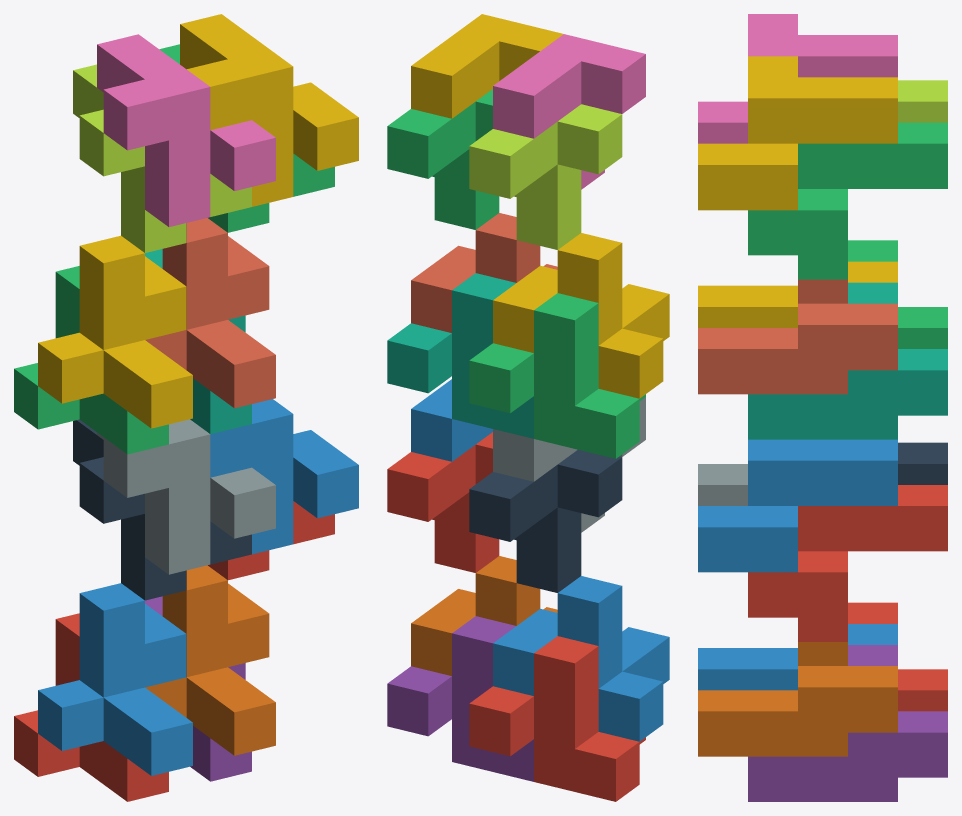
The model's file is tiling.obj.
3 renders of one model, left to right at view 1: azimuth 30°, elevation 25°; view 2: azimuth 150°, elevation 25°; view 3: azimuth 270°, elevation 25°, orthographic. The views are drawn at different scales.
Parts seen in each view (by area): view 1: copy_1_domain_4, copy_1_domain_2, copy_2_domain_4, copy_2_domain_8, copy_2_domain_2, copy_1_domain_6, copy_1_domain_8, copy_2_domain_6, copy_2_domain_3, copy_2_domain_1, copy_1_domain_1, copy_1_domain_3 (+4 smaller); view 2: copy_1_domain_1, copy_1_domain_3, copy_1_domain_4, copy_1_domain_2, copy_2_domain_3, copy_2_domain_1, copy_2_domain_4, copy_1_domain_7, copy_1_domain_5, copy_2_domain_7, copy_2_domain_5, copy_2_domain_8 (+4 smaller); view 3: copy_2_domain_8, copy_2_domain_6, copy_1_domain_8, copy_1_domain_6, copy_2_domain_7, copy_2_domain_5, copy_1_domain_7, copy_1_domain_5, copy_2_domain_4, copy_1_domain_4, copy_1_domain_2, copy_1_domain_1 (+4 smaller).
Part boxes in pixels (x1,y1,x2,y2): copy_1_domain_4: (38,235,192,428); copy_1_domain_2: (38,583,192,775); copy_2_domain_4: (97,34,275,226); copy_2_domain_8: (180,14,358,206); copy_2_domain_2: (97,419,275,574); copy_1_domain_6: (145,565,275,755); copy_1_domain_8: (145,218,275,408); copy_2_domain_6: (210,399,358,554); copy_2_domain_3: (73,64,251,252); copy_2_domain_1: (73,419,251,600); copy_1_domain_1: (14,613,168,801); copy_1_domain_3: (14,266,168,454); copy_1_domain_1: (469,636,645,801); copy_1_domain_3: (469,293,645,458); copy_1_domain_4: (493,233,669,398); copy_1_domain_2: (493,576,669,741); copy_2_domain_3: (469,104,622,249); copy_2_domain_1: (469,449,622,592); copy_2_domain_4: (493,34,645,189); copy_1_domain_7: (387,273,533,438); copy_1_domain_5: (387,616,533,781); copy_2_domain_7: (387,89,499,229); copy_2_domain_5: (387,432,499,572); copy_2_domain_8: (411,14,563,118); copy_2_domain_8: (698,56,897,210); copy_2_domain_6: (698,439,897,572); copy_1_domain_8: (698,279,897,394); copy_1_domain_6: (698,642,897,756); copy_2_domain_7: (748,122,947,279); copy_2_domain_5: (748,485,947,641); copy_1_domain_7: (748,282,947,439); copy_1_domain_5: (748,645,947,801); copy_2_domain_4: (698,14,897,143); copy_1_domain_4: (698,261,897,327); copy_1_domain_2: (698,624,897,690); copy_1_domain_1: (848,602,947,711).
Bounding box in the file's own units: 6 × 16 × 5.
